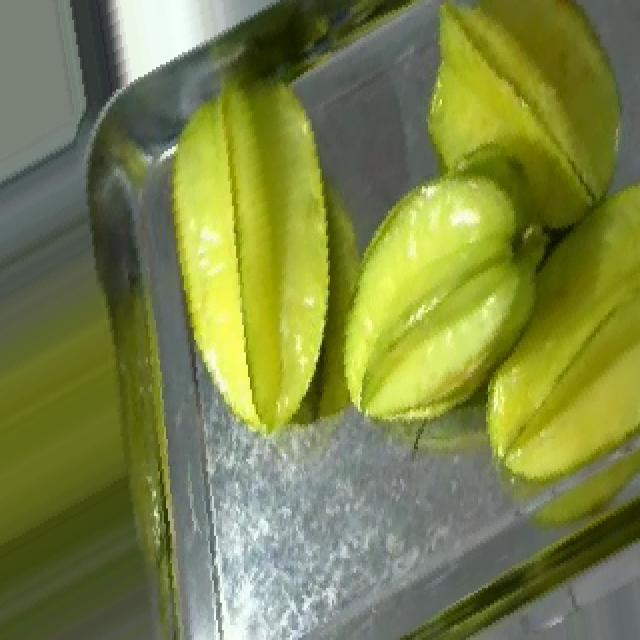fruit: (142, 52, 416, 454), (308, 131, 580, 464), (388, 0, 640, 270)
